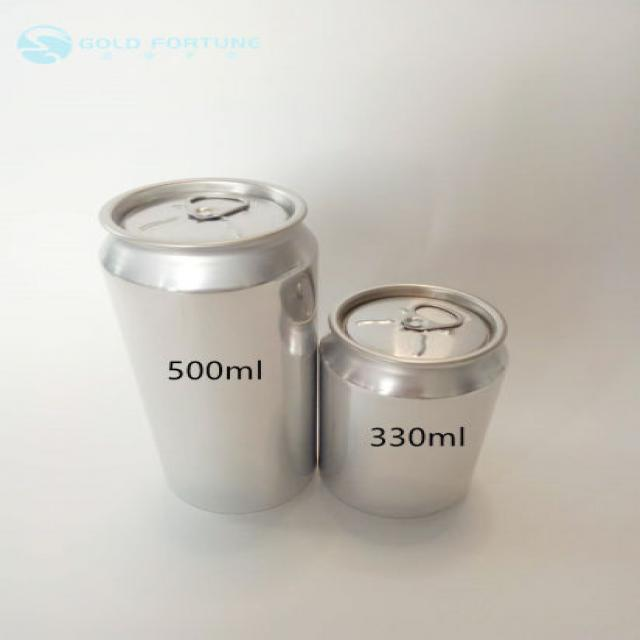can: (96, 168, 324, 522), (310, 278, 538, 548)
